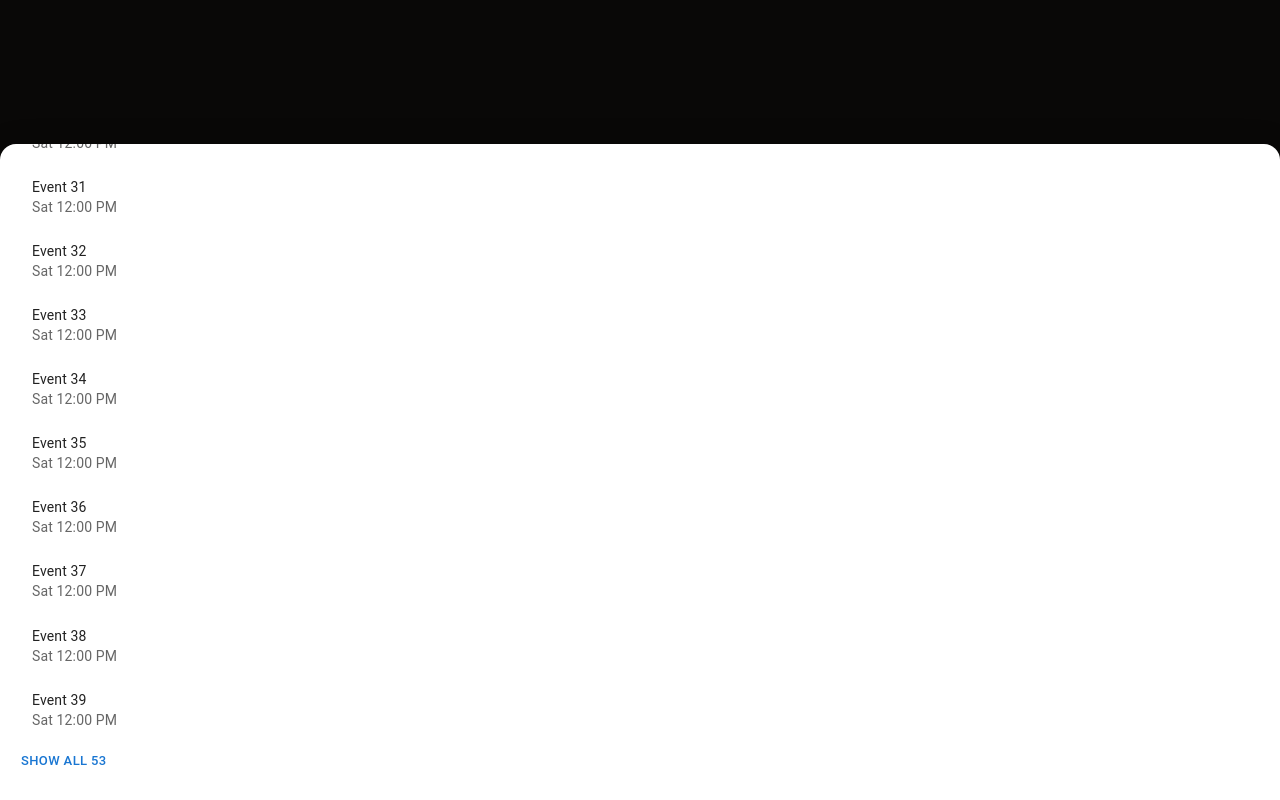
Test: DetailDrawer · hosted events beyond the 40-event cap (#28) › reveals every event once "Show all" is pressed
(page scrolled)
Click the button "Show all 53": [64, 761] box [16,746,112,776]
(page scrolled)
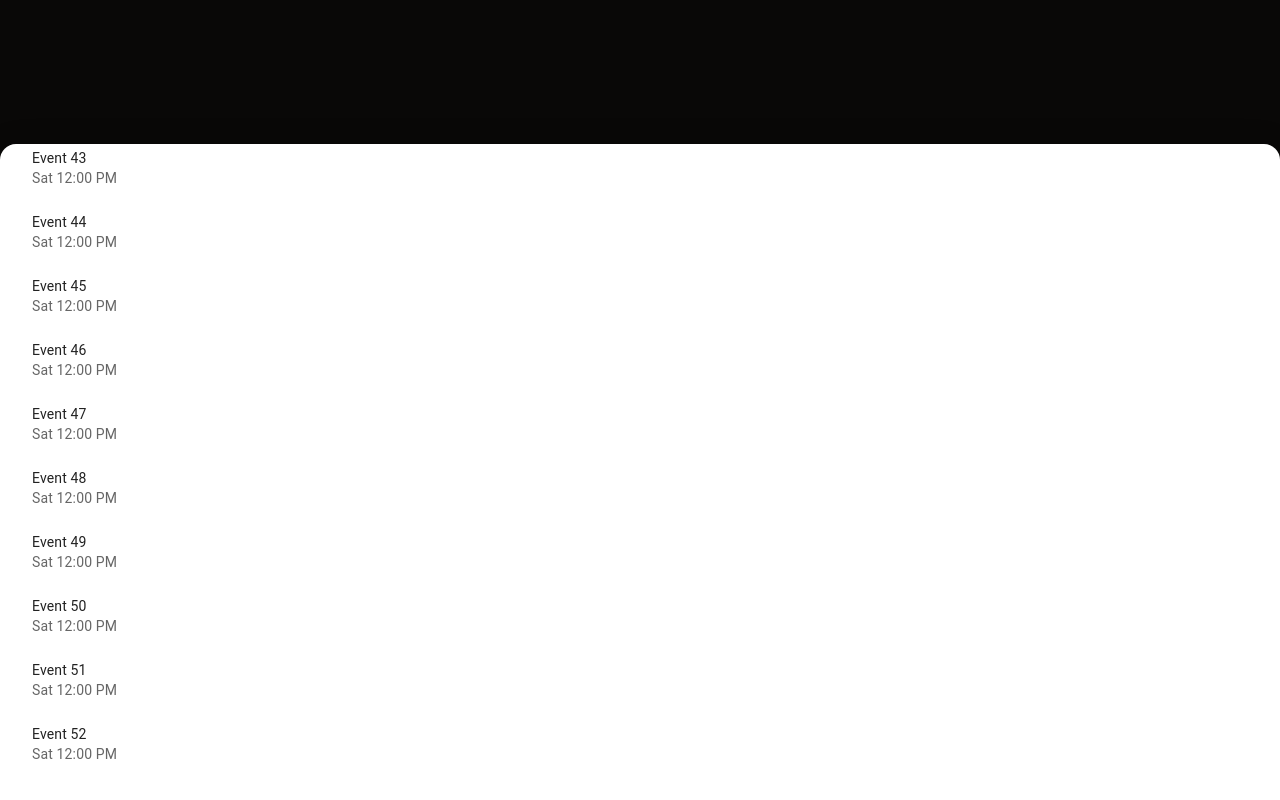
Check: the text "Event 52" is shown, box [32,726,87,742]
Check: the button "Show all" is gone
